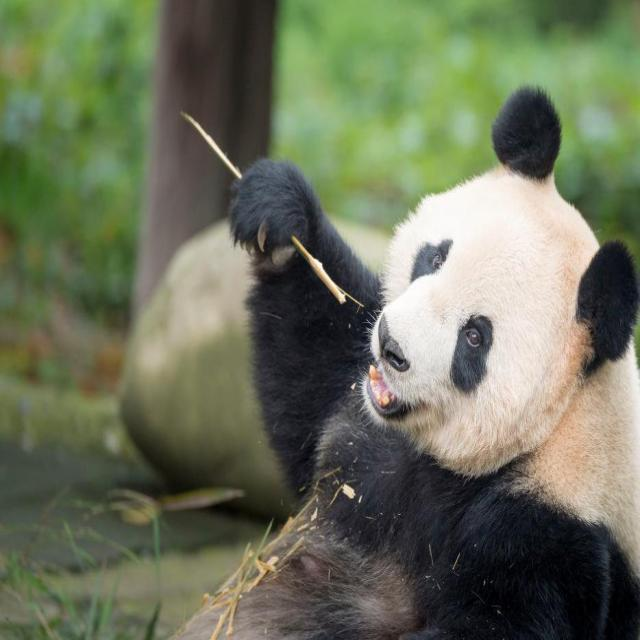Panda: (205, 81, 639, 640)
